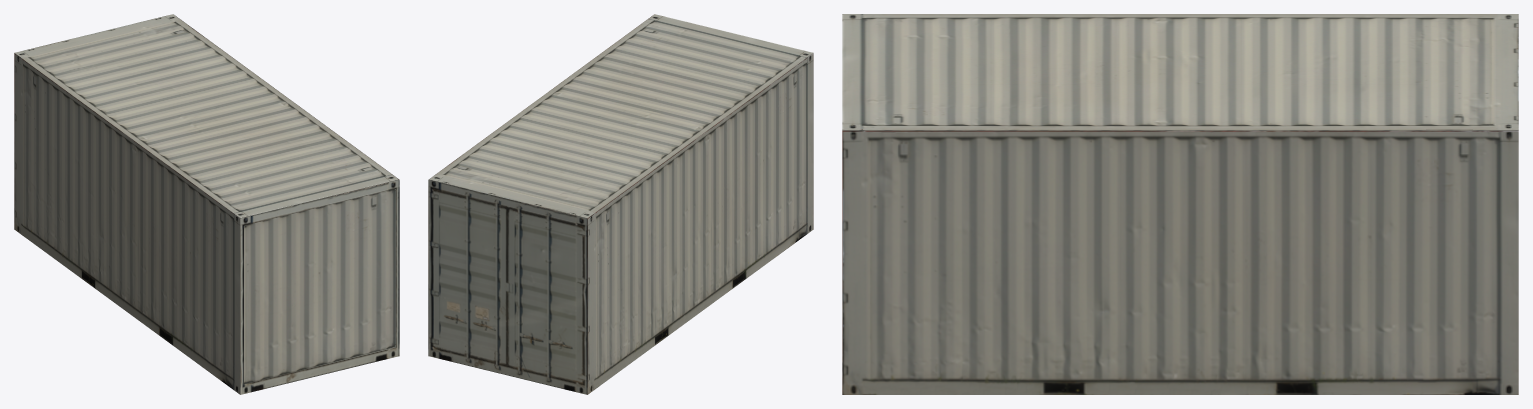
The model's file is Cont1_1.fbx.
3 views of the same model, side by side, from view 1: azimuth 30°, elevation 25°; view 2: azimuth 150°, elevation 25°; view 3: azimuth 270°, elevation 25° (orthographic). The views are drawn at different scales.
Visible parts, largest first — view 1: Box001; view 2: Box001; view 3: Box001.
Part boxes in pixels (bbox=[...]): Box001: bbox=[14, 14, 399, 394]; Box001: bbox=[428, 14, 813, 394]; Box001: bbox=[842, 14, 1518, 394].
Size of the model in its own units: 96.06 by 102 by 236.
Materials: 1 (1 with a texture image).
